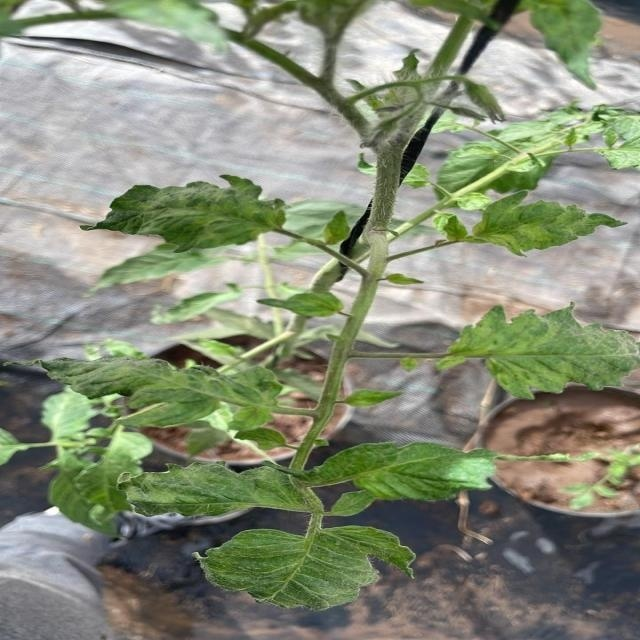T_L_R: (434, 307, 640, 402), (194, 527, 415, 612), (43, 359, 283, 430), (83, 176, 288, 253), (288, 444, 499, 500), (121, 464, 312, 517), (474, 193, 625, 256)
T_S_R: (290, 275, 379, 470), (363, 132, 412, 249)
